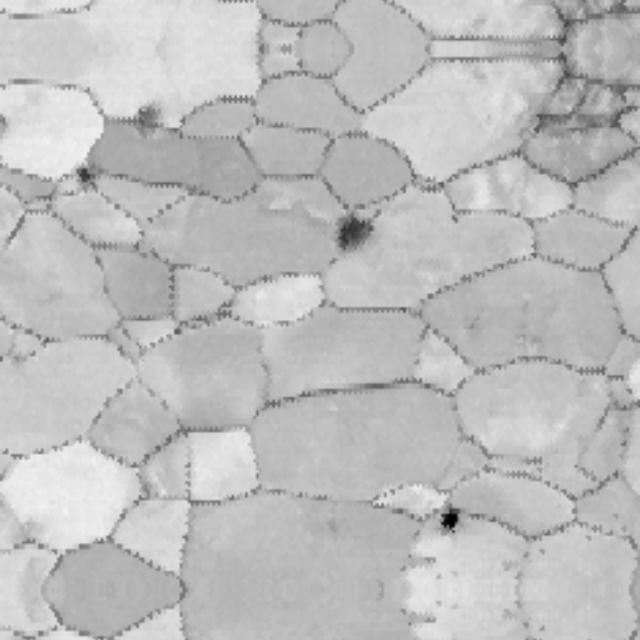good_void: (307, 199, 376, 267), (536, 109, 614, 136), (71, 152, 112, 191), (312, 508, 351, 542), (127, 103, 159, 140), (602, 76, 638, 105), (434, 510, 471, 534), (602, 0, 638, 22)
